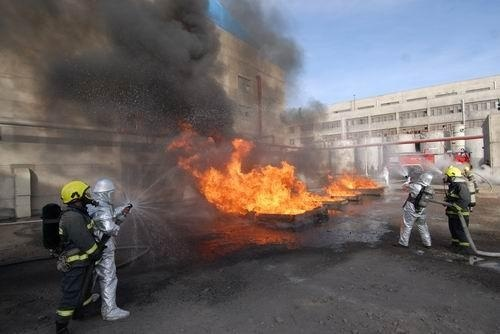fire: (172, 125, 356, 217), (322, 168, 380, 198)
